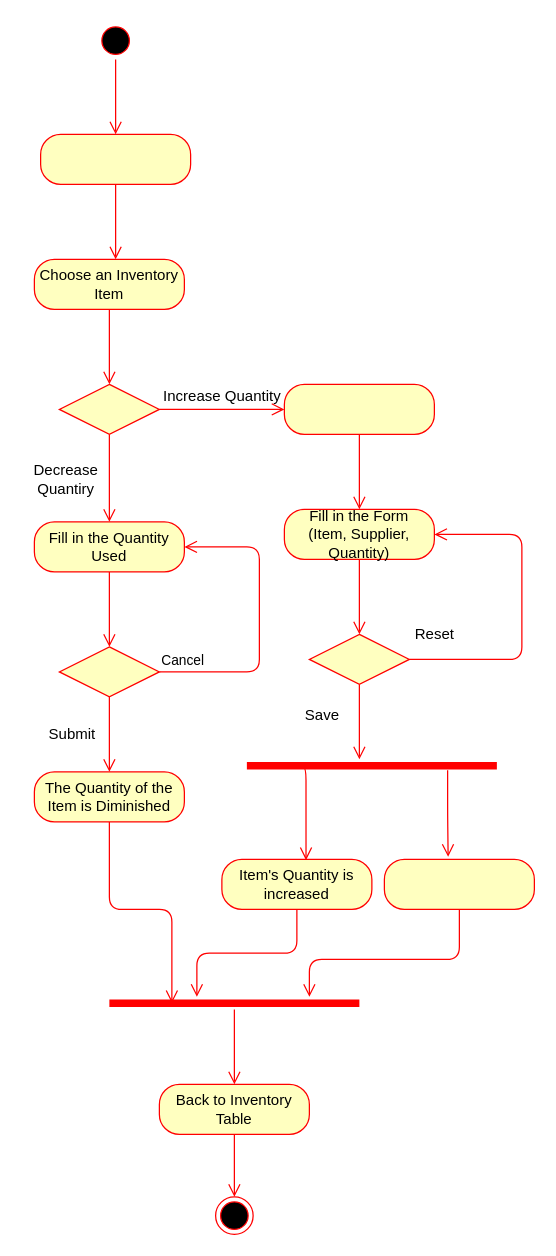
Image size: 556x1256. Some labels were removed from this diagram. Each missing label, with the centre of its shape:
"An Invoice is Created" belongs at (358,408).
"Go to Dashboard/ Inventory Table" belongs at (115,158).
"Invoice is Sent to the Expenses Page" belongs at (458,883).
